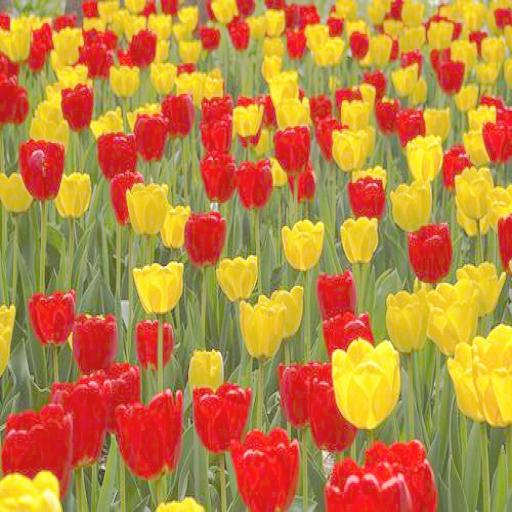tulip: (110, 389, 190, 477), (2, 404, 71, 498), (333, 336, 401, 430), (229, 426, 301, 512), (53, 372, 110, 474), (190, 377, 253, 455), (308, 363, 358, 457), (473, 327, 512, 426), (430, 281, 477, 352), (20, 137, 68, 206), (320, 303, 370, 367), (408, 221, 456, 286), (238, 297, 284, 363), (26, 288, 76, 348), (70, 312, 120, 372), (387, 284, 429, 354), (132, 260, 185, 314), (457, 260, 506, 318), (278, 358, 314, 432), (182, 212, 228, 268), (186, 340, 226, 400), (456, 164, 494, 224), (282, 218, 326, 269), (390, 180, 433, 232), (133, 315, 174, 368), (128, 180, 168, 234), (215, 250, 258, 300), (274, 120, 312, 175), (200, 148, 236, 206), (236, 154, 272, 210), (58, 83, 98, 132), (318, 269, 360, 315), (98, 130, 138, 178), (348, 172, 387, 220), (108, 170, 142, 224), (53, 170, 92, 216), (341, 216, 377, 264), (136, 111, 169, 163), (408, 134, 442, 184), (160, 91, 194, 138), (332, 128, 368, 168), (483, 117, 512, 164), (200, 114, 236, 150), (162, 204, 191, 244), (436, 54, 465, 94), (371, 95, 399, 134), (397, 108, 425, 144), (228, 17, 253, 52), (287, 26, 307, 60)
